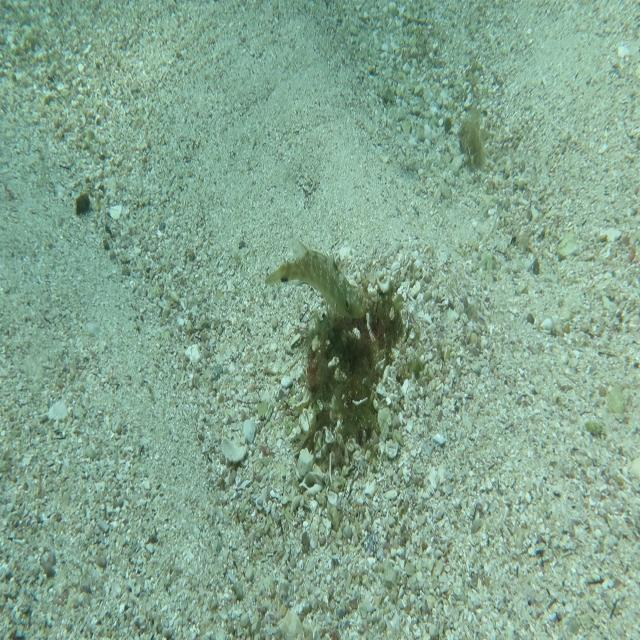FAN: (264, 234, 366, 321)
core_nest: (354, 303, 394, 342)
nest: (288, 259, 417, 471)
vegetation: (458, 104, 490, 173), (74, 190, 90, 218)
